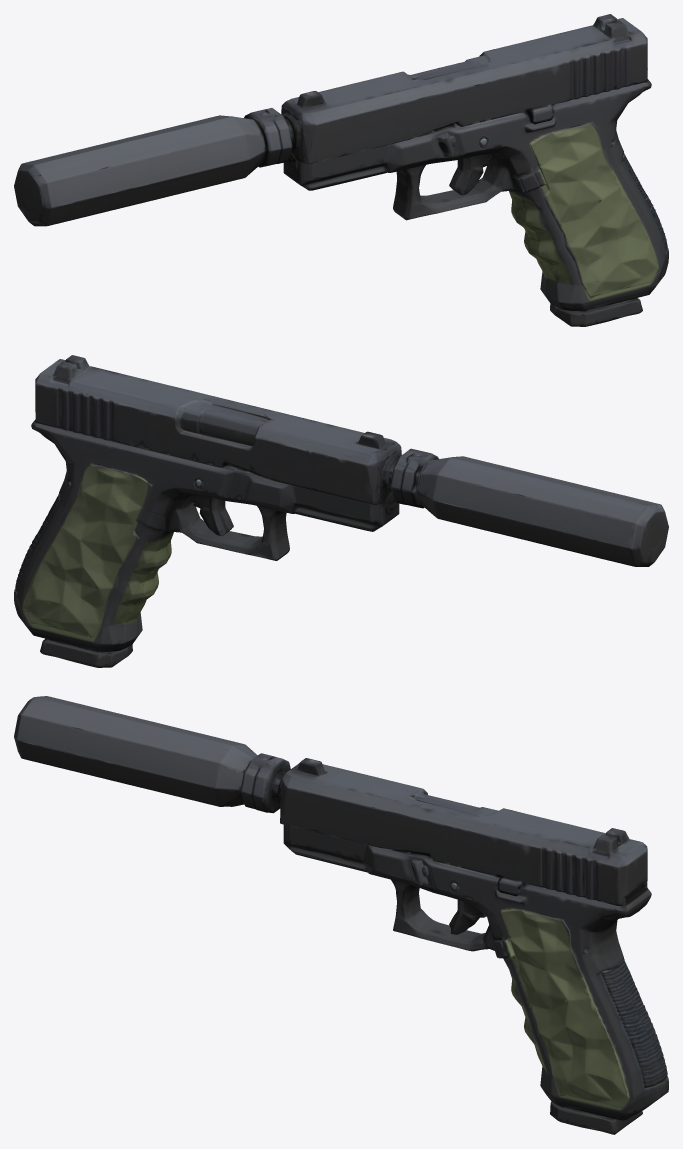
Rendered from weapon_pistol.glb.
The picture shows the model from 3 angles, top to bottom: view 1: azimuth 30°, elevation 25°; view 2: azimuth 150°, elevation 25°; view 3: azimuth 330°, elevation 25°; orthographic projection.
Parts seen in each view (by area): view 1: node_0; view 2: node_0; view 3: node_0.
Part boxes in pixels (bbox=[...]): node_0: bbox=[14, 14, 668, 326]; node_0: bbox=[14, 355, 668, 667]; node_0: bbox=[14, 696, 668, 1134].
Bounding box in the file's own units: 1.11 × 0.4802 × 0.1068.
1 material, 1 textured.
